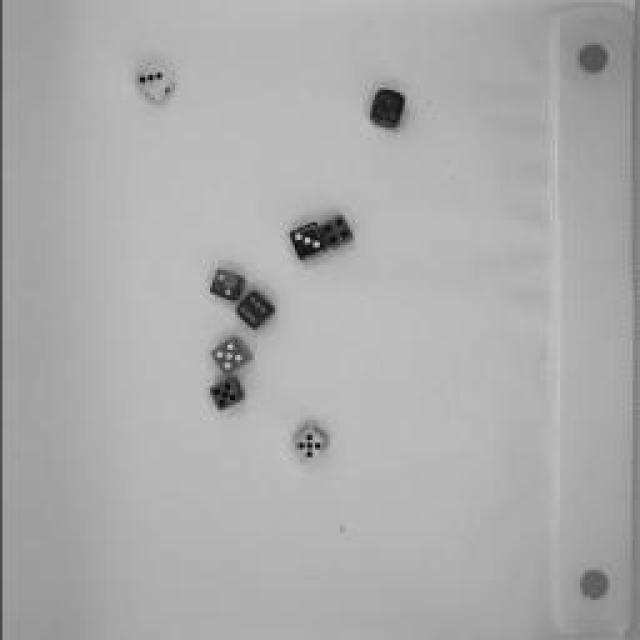dice_1: (360, 82, 408, 136)
dice_2: (206, 264, 246, 306)
dice_3: (126, 59, 179, 106), (286, 220, 329, 260)
dice_4: (315, 212, 355, 252)
dice_5: (289, 421, 331, 469), (208, 336, 252, 379), (210, 380, 245, 412)
dice_6: (232, 288, 276, 332)
